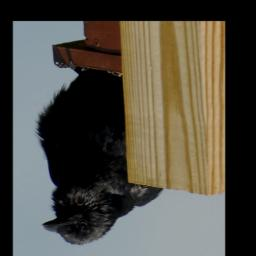Crow: (33, 62, 162, 246)
